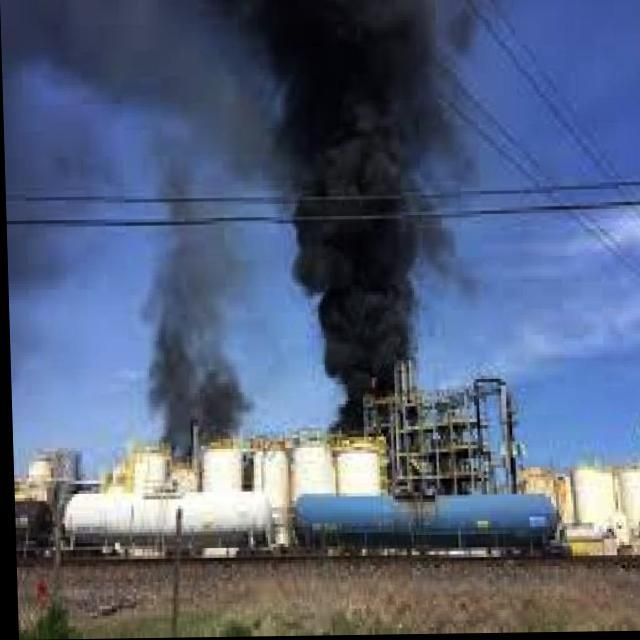Smoke: (257, 0, 500, 434), (0, 0, 290, 358), (129, 177, 257, 452)
